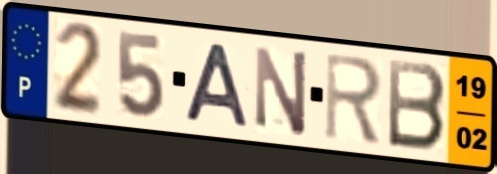2: (52, 19, 105, 117)
5: (115, 28, 167, 119)
A: (181, 40, 252, 130)
B: (385, 56, 449, 155)
N: (252, 43, 310, 140)
R: (322, 50, 385, 147)
